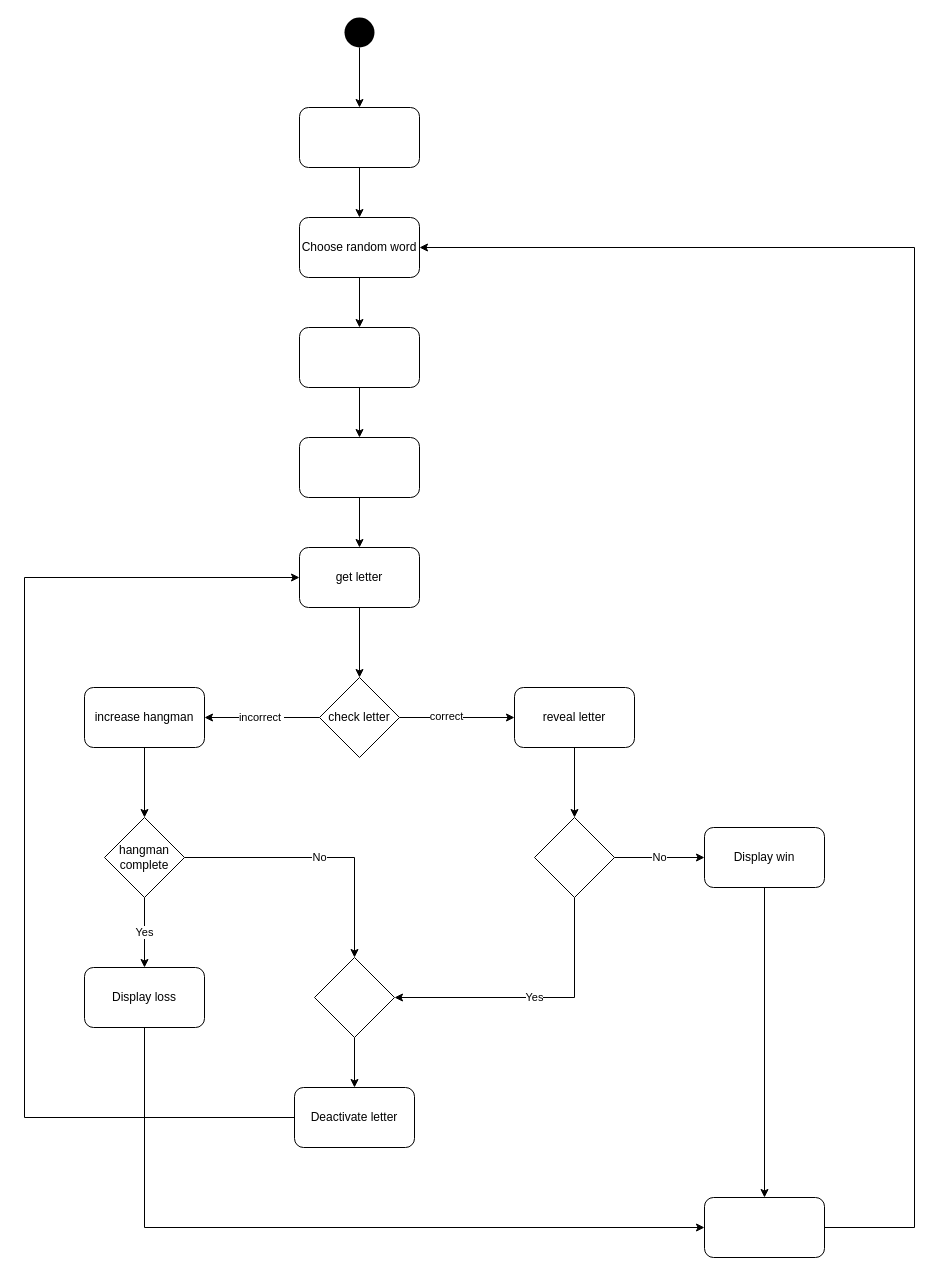
Image size: 940x1275. Some labels were removed from this diagram. Each missing label, with the centre of its shape:
count characters in word: point 359,357
display dashes: point 359,467
empty letters: point 574,857
Load words: point 359,137
Restart game: point 764,1227
